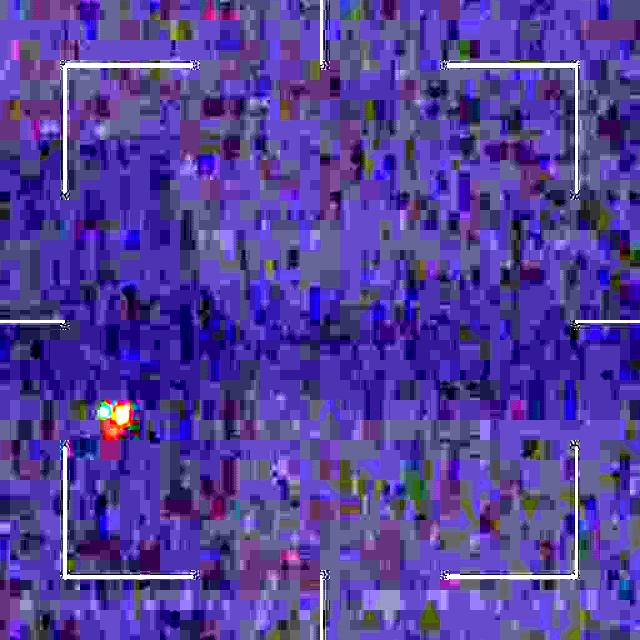bird: (94, 396, 131, 439)
